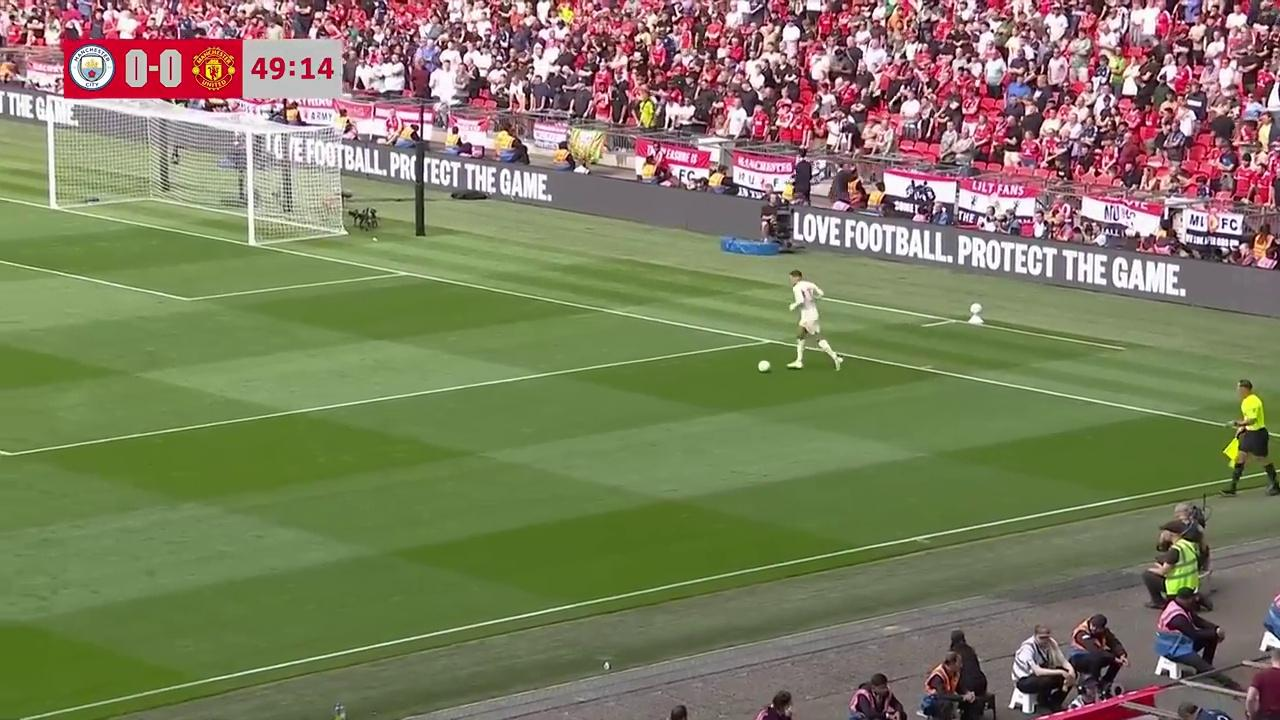ball: (755, 357, 771, 373)
player: (784, 267, 843, 371)
referee: (1215, 367, 1279, 497)
